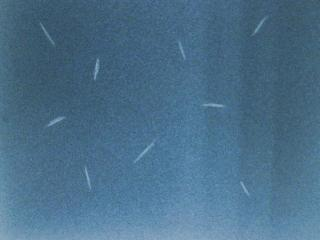scratch: (38, 17, 56, 48), (133, 140, 156, 164), (250, 13, 270, 37), (45, 115, 67, 128), (82, 165, 93, 191), (177, 39, 187, 61), (239, 180, 251, 198), (201, 102, 227, 109), (93, 57, 100, 79)
